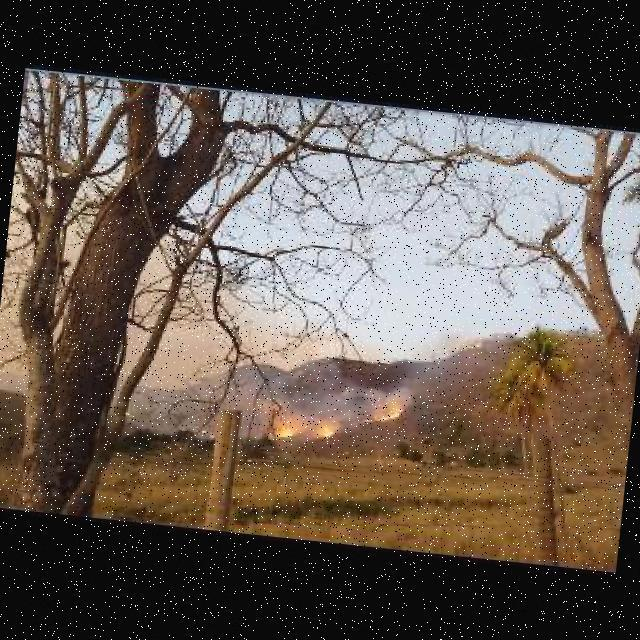Fire: (354, 398, 406, 429), (460, 335, 485, 349), (280, 427, 297, 437), (320, 425, 335, 436), (202, 425, 215, 436), (125, 406, 136, 417)
